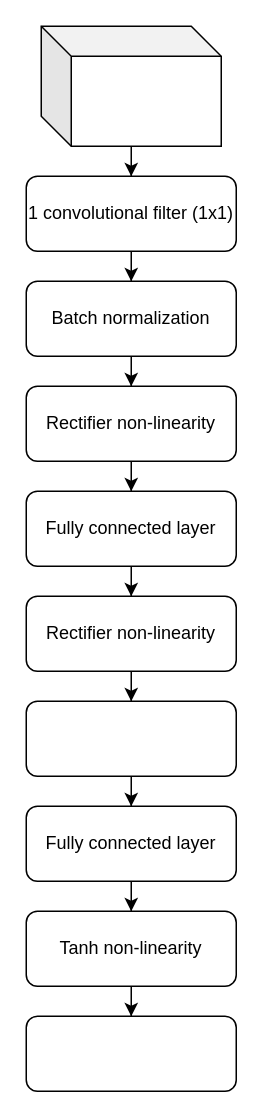
Image size: 263x1118. Some labels were removed from this diagram. The shapes that lost their labels are listed below. From the top down, each one's centre as x and y in pixels, then its label:
At (130,85): "Input".
At (130,738): "Move probabilities".
At (130,1053): "Value v".
